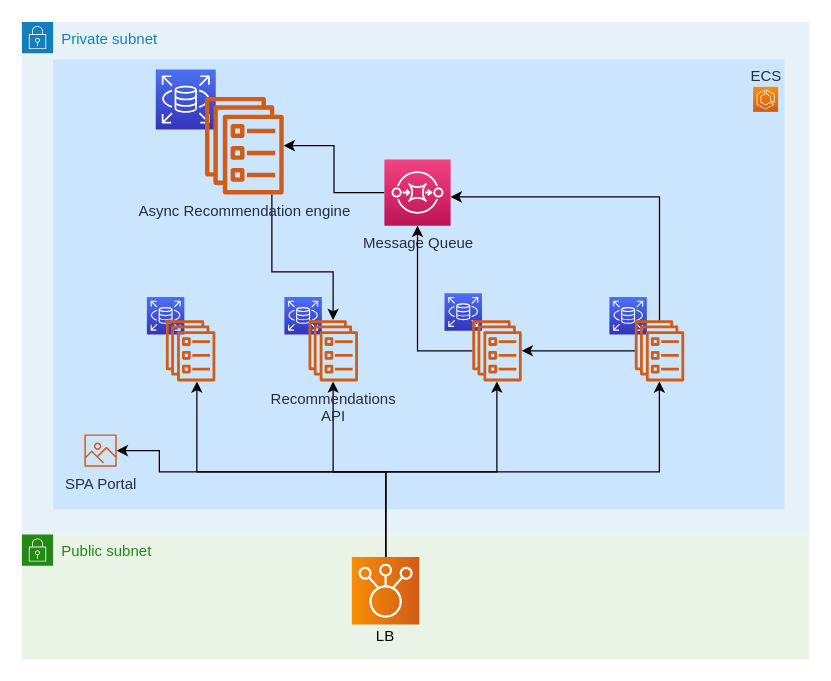
The diagram is 831 pixels wide and 681 high, and some of its shapes have lost their labels. The centre of each missing label's shape, as x and y in pixels:
"Books for Sale API" belongs at point (496, 350).
"Identity Service" belongs at point (190, 350).
"Payments (checkout) API" belongs at point (659, 350).
